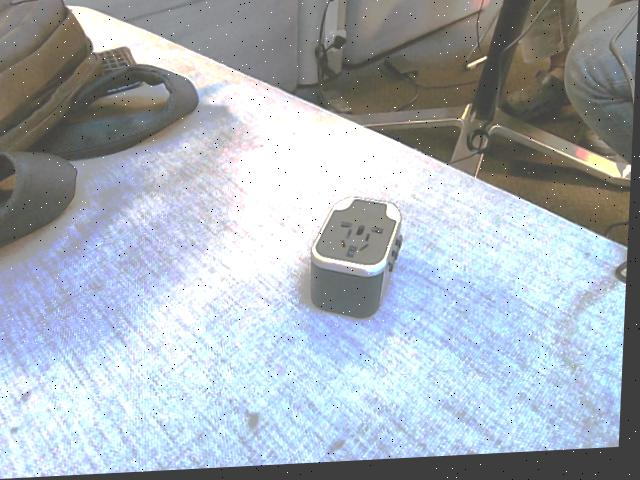adapter: (310, 198, 407, 324)
